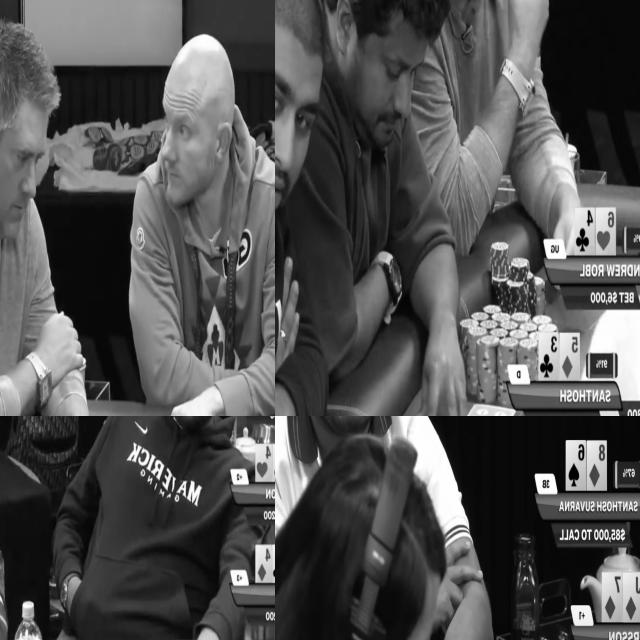3C: (540, 333, 558, 380)
4C: (576, 209, 594, 255)
4D: (255, 544, 272, 582)
4H: (256, 445, 273, 482)
5D: (560, 333, 580, 380)
6H: (596, 208, 615, 255)
6S: (566, 440, 586, 490)
7D: (602, 573, 621, 622)
8D: (588, 442, 606, 491)
JD: (623, 572, 640, 622)
